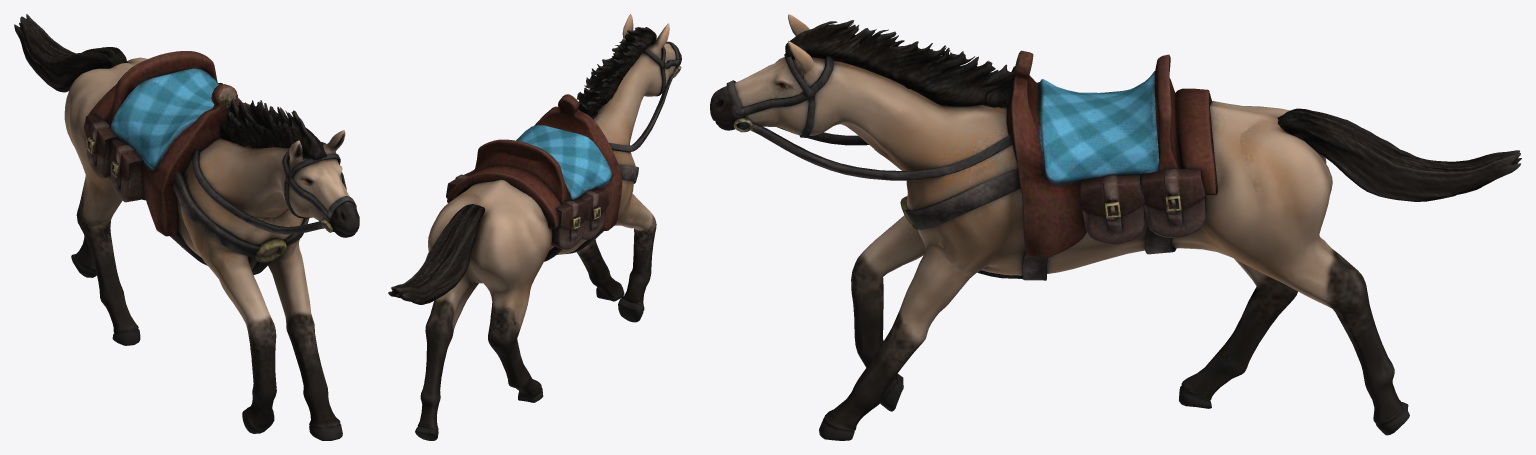
File: MZ4250 - Warhorse Running.glb
3 renders of one model, left to right at view 1: azimuth 30°, elevation 25°; view 2: azimuth 150°, elevation 25°; view 3: azimuth 270°, elevation 25°, orthographic. The views are drawn at different scales.
Visible parts, largest first — view 1: Warhorse running.001; view 2: Warhorse running.001; view 3: Warhorse running.001.
Part boxes in pixels (x1,y1,x2,y2): Warhorse running.001: (14, 14, 359, 440); Warhorse running.001: (388, 14, 681, 440); Warhorse running.001: (710, 14, 1521, 440).
Bounding box in the file's own units: 18.25 × 38.98 × 71.12.
1 material, 1 textured.
